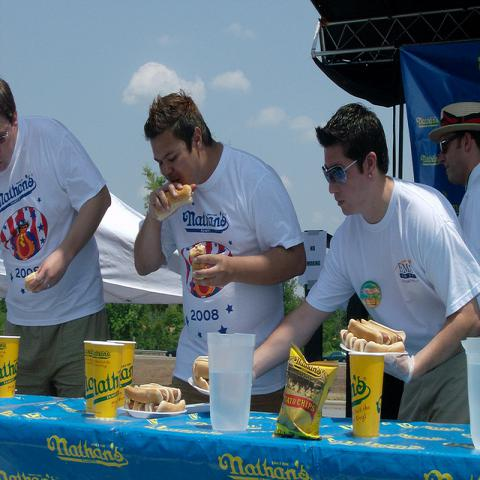car: (323, 350, 347, 363)
